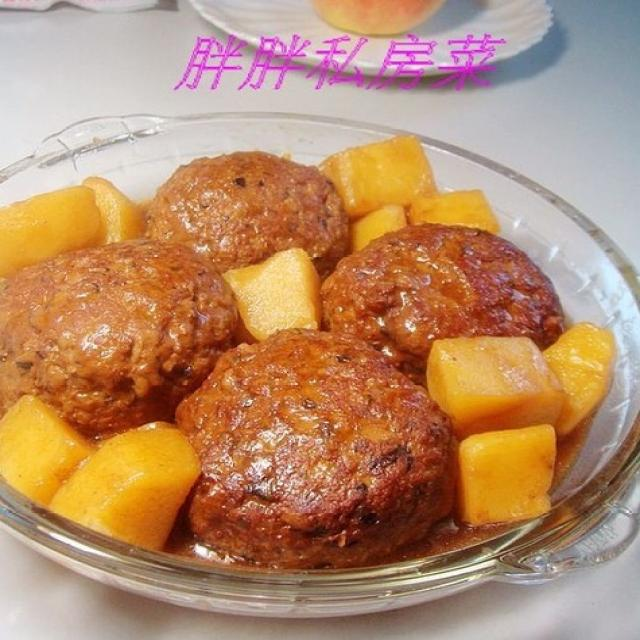Meatball: (170, 322, 469, 574), (0, 232, 251, 445), (307, 211, 573, 392), (146, 139, 354, 291)
